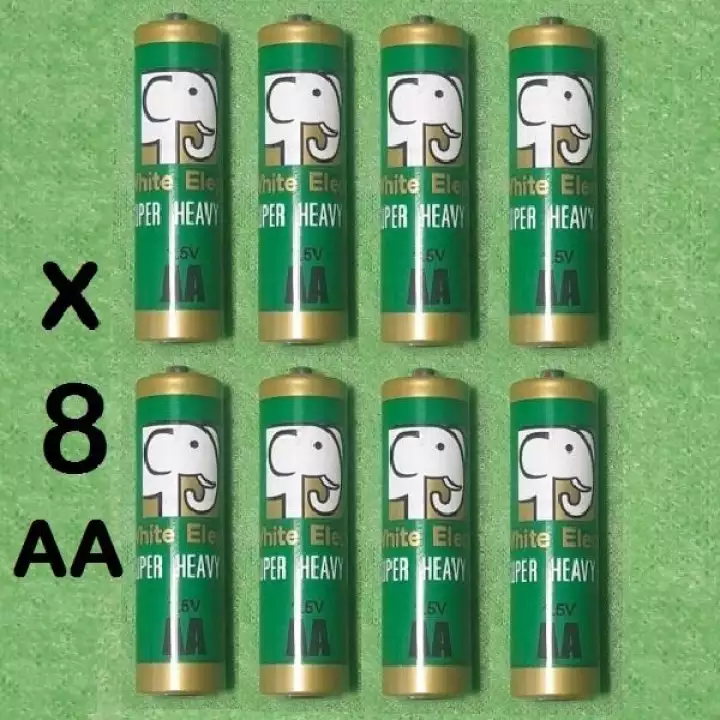Battery: (377, 14, 480, 346), (132, 11, 233, 344), (256, 12, 354, 348), (506, 367, 604, 703), (133, 366, 231, 697), (507, 12, 603, 348), (377, 365, 472, 701), (259, 365, 353, 697)
